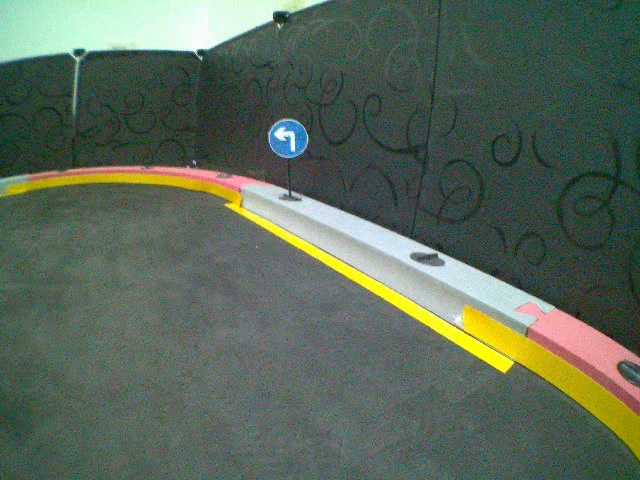turn: (266, 118, 309, 159)
